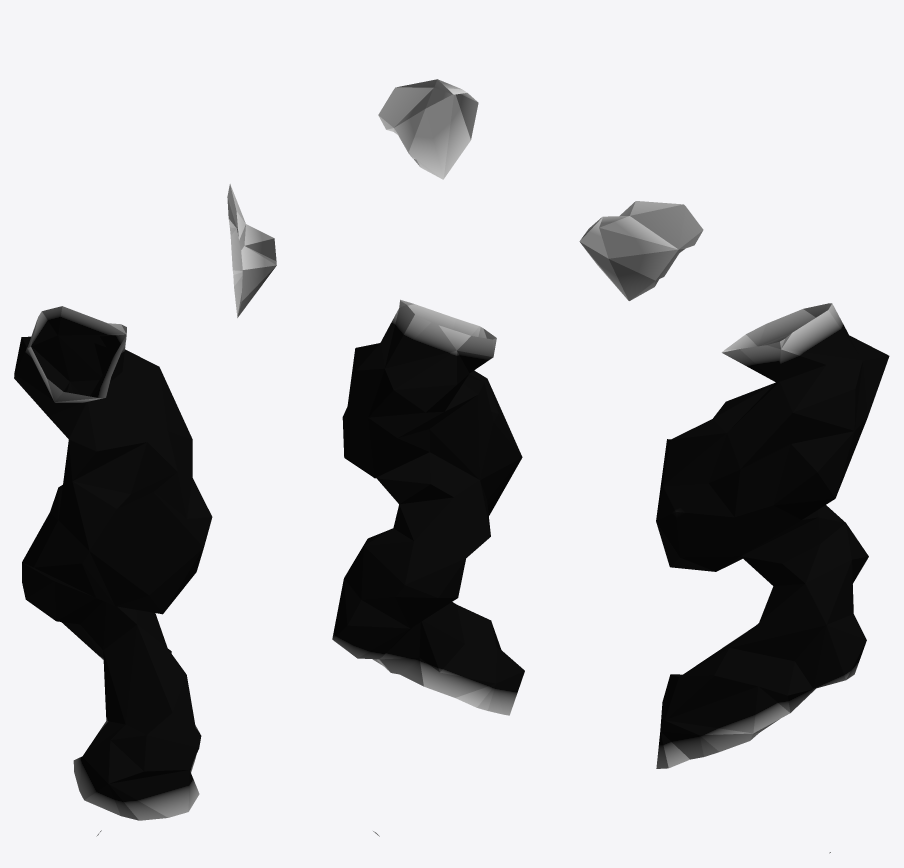
The model's file is plant05.FBX.
3 renders of one model, left to right at view 1: azimuth 30°, elevation 25°; view 2: azimuth 150°, elevation 25°; view 3: azimuth 270°, elevation 25°, orthographic. The views are drawn at different scales.
Parts seen in each view (by area): view 1: Plant05; view 2: Plant05; view 3: Plant05.
Part boxes in pixels (left/top/right/bottom): Plant05: left=14, top=184, right=276, bottom=836; Plant05: left=332, top=79, right=524, bottom=836; Plant05: left=579, top=201, right=889, bottom=853.
Size of the model in its own units: 21.33 by 105 by 36.07.
